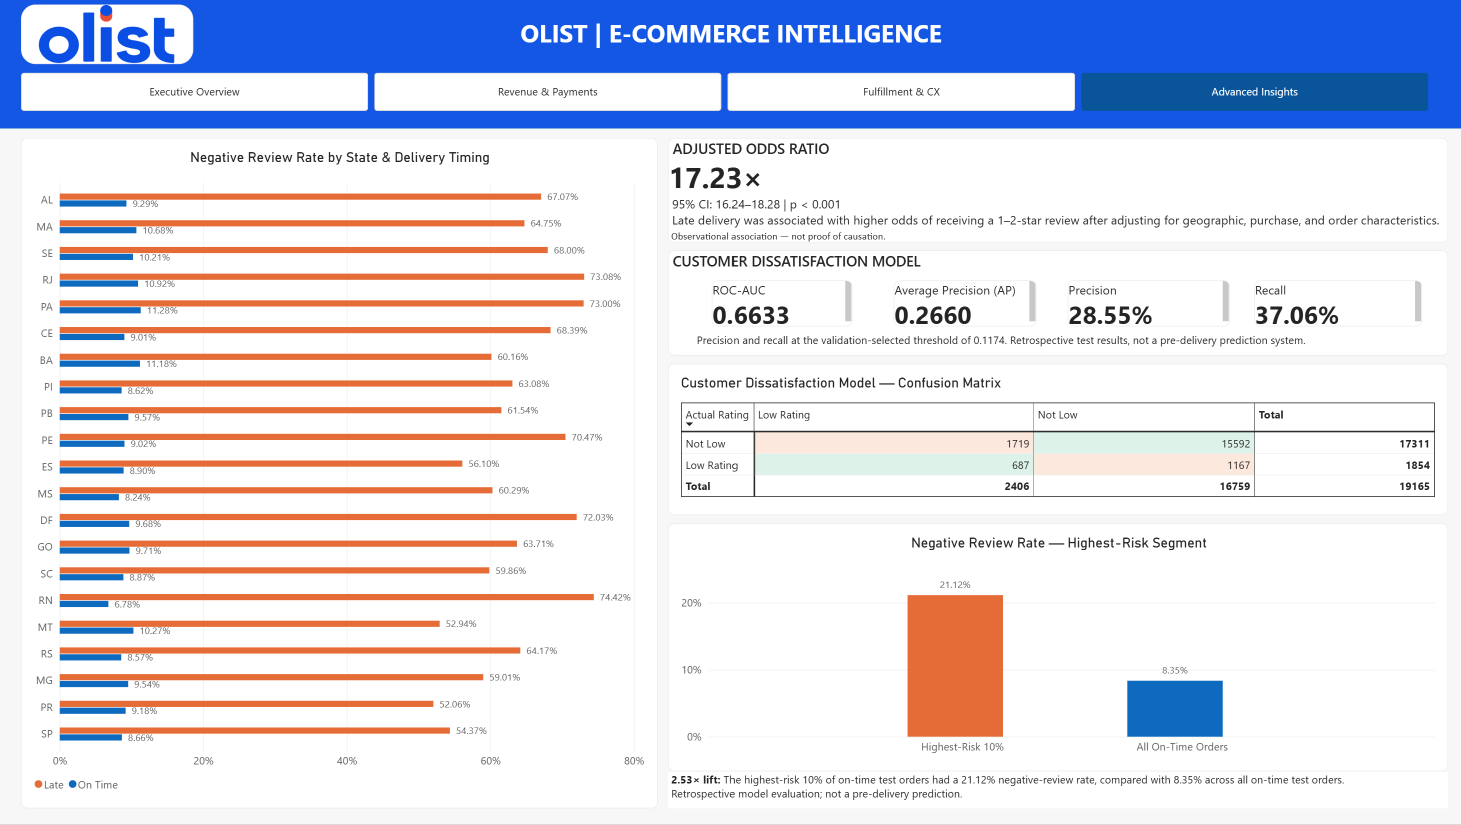

What the dashboard file says about the page in this screenshot:
{"tool":"powerbi","page":{"name":"Advanced Insights","canvas":[1920,1080],"ordinal":3},"visuals":[{"type":"shape","box":[0,0,1919.6,170.2],"z":0},{"type":"pageNavigator","box":[31.8,96.6,1842.8,50.5],"z":1000},{"type":"image","box":[31.8,7.7,225.1,78],"z":2000},{"type":"textbox","box":[0,22.9,1919.7,55.1],"z":3000},{"type":"clusteredBarChart","title":"Negative Review Rate by State & Delivery Timing","fields":{"Category":["Fact_Order_Overview.customer_state"],"Series":["Fact_Order_Overview.Delivery Timing"],"Y":["Fact_Order_Overview.Low Rating Rate (%)"]},"box":[31.6,182.5,832.9,876.7],"z":3001},{"type":"textbox","box":[877.8,182.5,1019.5,137.6],"z":3002},{"type":"textbox","box":[877.8,329.3,1019.5,137.6],"z":3003},{"type":"textbox","box":[934.9,369,183.5,60.1],"z":3004},{"type":"textbox","box":[1172.4,369,186.6,60.1],"z":3005},{"type":"textbox","box":[1399.7,369,212.1,60.1],"z":3006},{"type":"textbox","box":[1644.4,369,219.2,60.1],"z":3007},{"type":"textbox","box":[915.5,436.3,967.5,23.4],"z":3008},{"type":"pivotTable","title":"Customer Dissatisfaction Model — Confusion Matrix","fields":{"Columns":["ML_Confusion_Matrix.Predicted Rating"],"Rows":["ML_Confusion_Matrix.Actual Rating"],"Values":["Sum(ML_Confusion_Matrix.Order Count)"]},"box":[877.8,478.1,1019.5,197.8],"z":3009},{"type":"clusteredColumnChart","title":"Negative Review Rate — Highest-Risk Segment","fields":{"Category":["ML_Risk_Segments.Risk Segment"],"Y":["Sum(ML_Risk_Segments.Low Rating Rate)"]},"box":[877.8,687.1,1019.5,324.2],"z":3010},{"type":"textbox","box":[877.8,1011.3,1019.5,47.9],"z":3011}]}

Visuals, with their boxes in screenshot pixels (x1, y1, x2, y2), scaled from the page's 1920x1080 canvas onto the 1461x825 screenshot:
shape: bbox=[0, 0, 1460, 130]
pageNavigator: bbox=[24, 74, 1426, 112]
image: bbox=[24, 6, 195, 65]
textbox: bbox=[0, 17, 1460, 60]
"Negative Review Rate by State & Delivery Timing" clusteredBarChart: bbox=[24, 139, 658, 809]
textbox: bbox=[668, 139, 1444, 245]
textbox: bbox=[668, 252, 1444, 357]
textbox: bbox=[711, 282, 851, 328]
textbox: bbox=[892, 282, 1034, 328]
textbox: bbox=[1065, 282, 1226, 328]
textbox: bbox=[1251, 282, 1418, 328]
textbox: bbox=[697, 333, 1433, 351]
"Customer Dissatisfaction Model — Confusion Matrix" pivotTable: bbox=[668, 365, 1444, 516]
"Negative Review Rate — Highest-Risk Segment" clusteredColumnChart: bbox=[668, 525, 1444, 773]
textbox: bbox=[668, 773, 1444, 809]
